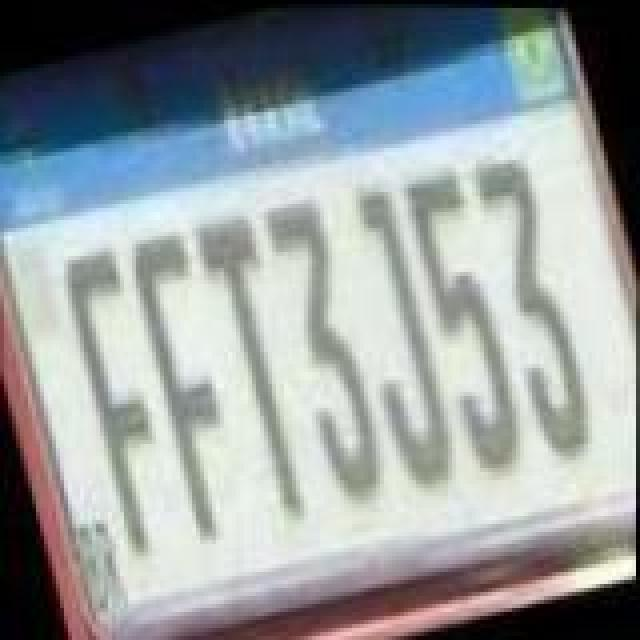3: (256, 186, 396, 510), (464, 140, 604, 464)
5: (390, 154, 534, 478)
F: (52, 236, 196, 564), (120, 218, 264, 546)
J: (322, 174, 466, 502)
T: (188, 202, 332, 530)
